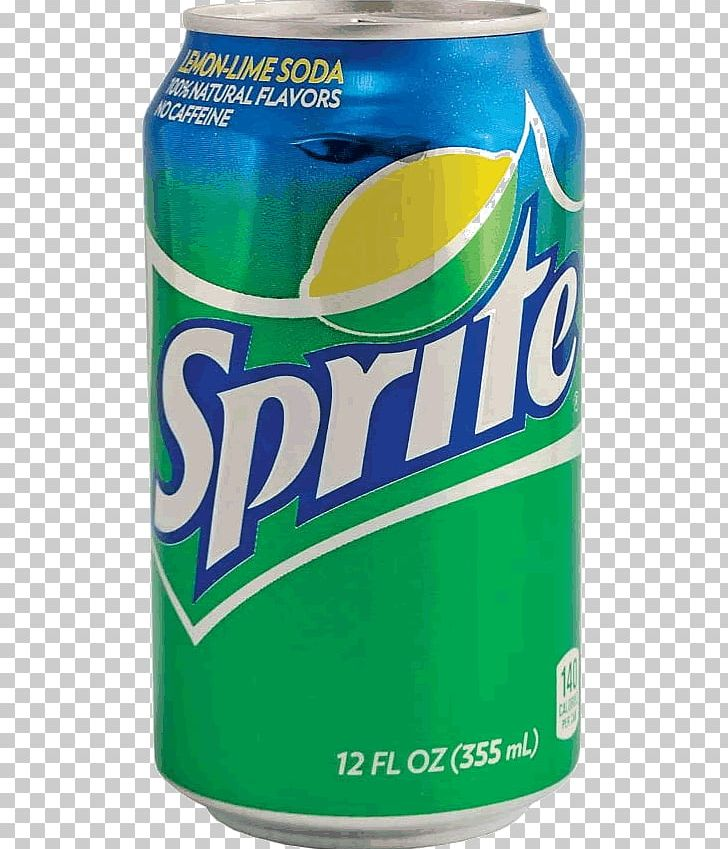sprite_can: (145, 4, 583, 844)
